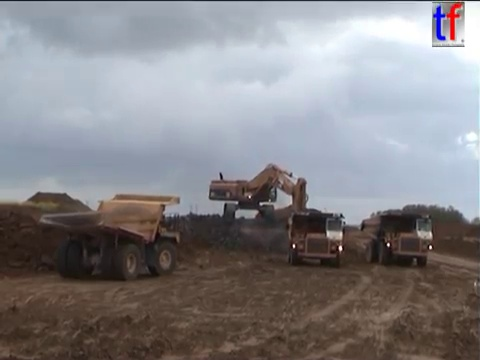excavator: (207, 162, 317, 235), (253, 201, 311, 230)
truck: (36, 192, 182, 282), (358, 213, 434, 268), (284, 207, 345, 269)
